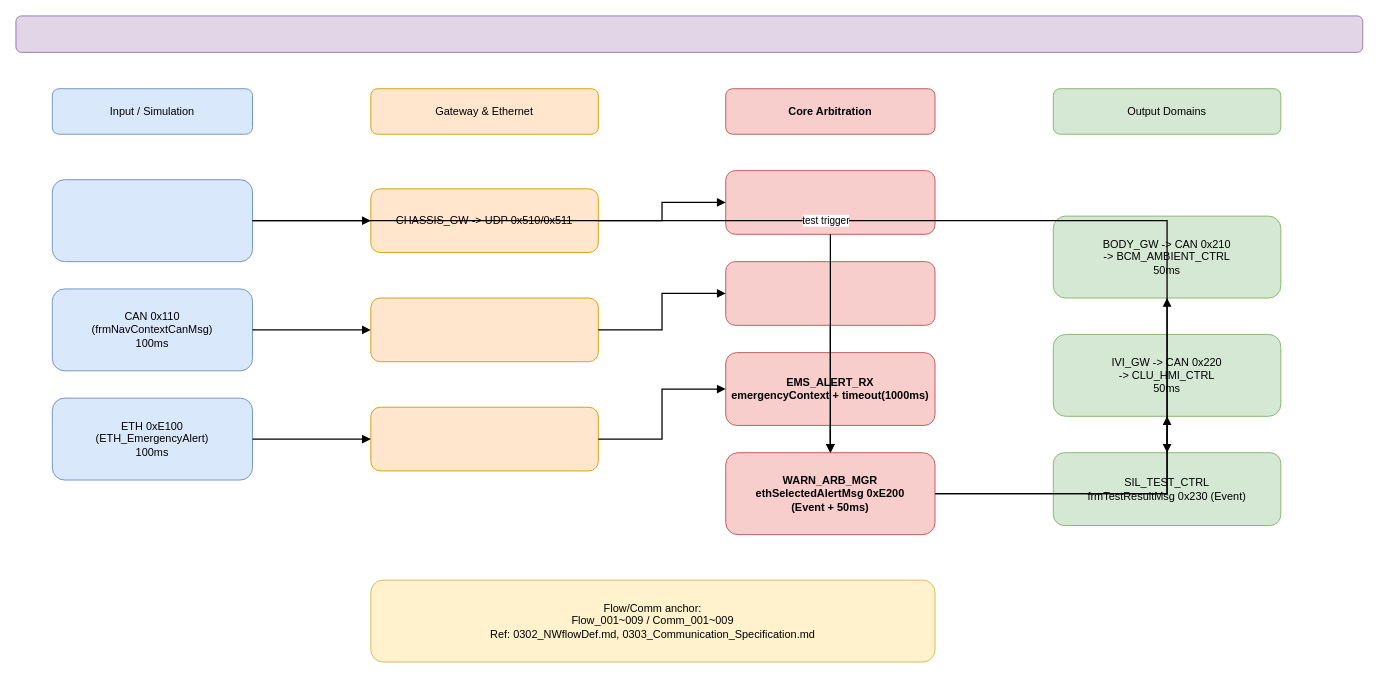
Some shapes in this 1379 by 678 pixel diagram are drawn without their labels. Here are the shapes that lost their labels. From the top down, the box of each, then its label:
(15, 15, 1363, 52): Network Flow Diagram (Message-Centric)
(51, 179, 253, 262): CAN 0x100/0x101 (frmVehicleStateCanMsg / frmSteeringCanMsg) 100ms
(725, 170, 935, 234): ADAS_WARN_CTRL warningState
(725, 261, 935, 325): NAV_CONTEXT_MGR baseZoneContext
(370, 297, 598, 362): INFOTAINMENT_GW -> UDP 0x512
(370, 406, 598, 471): ETH_SWITCH
